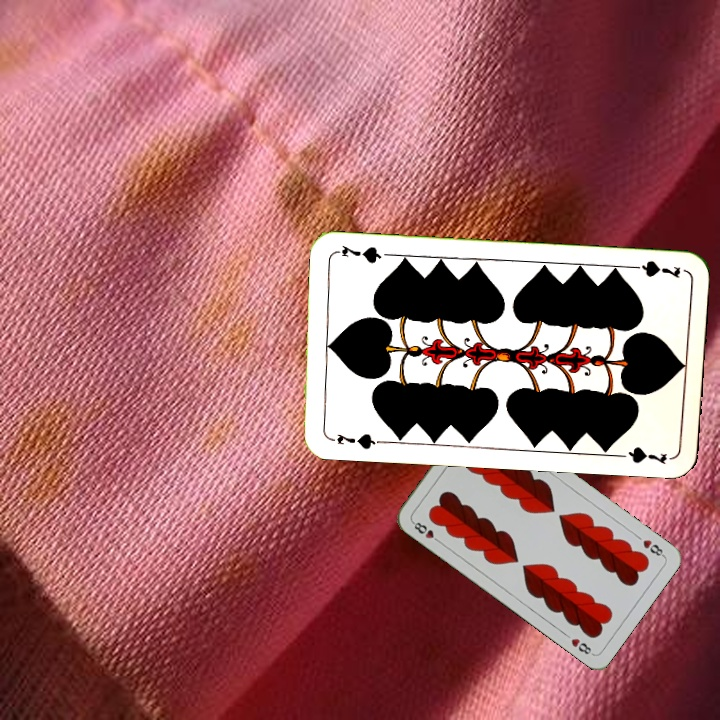G7: (624, 256, 683, 281), (325, 429, 384, 452)
H8: (408, 517, 444, 546), (639, 535, 667, 560)
